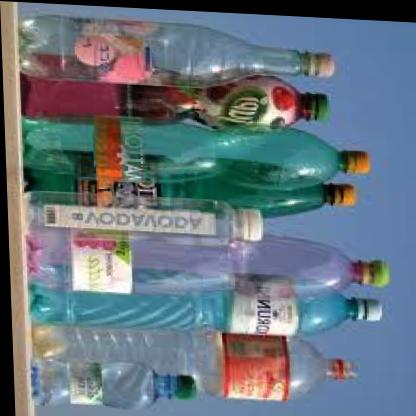Plastic: (19, 7, 385, 416)
